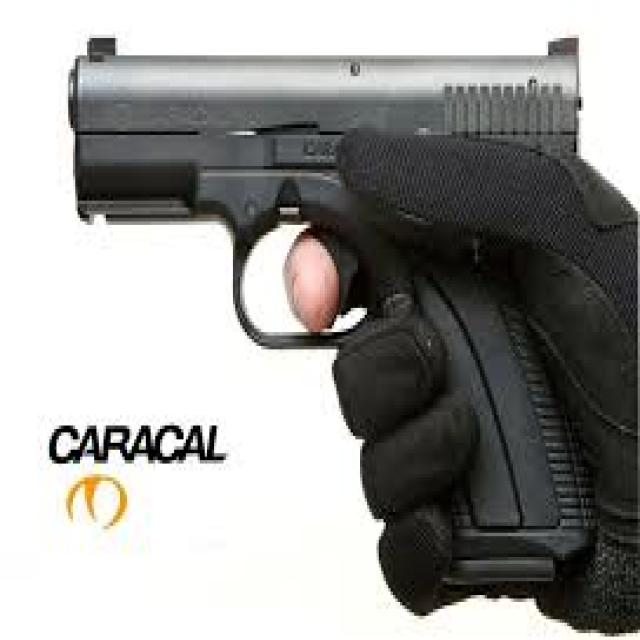Gun: (40, 20, 639, 585)
